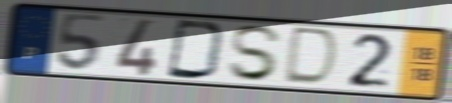2: (348, 31, 394, 91)
4: (114, 16, 161, 78)
5: (53, 11, 111, 75)
D: (164, 17, 229, 82), (280, 25, 342, 89)
S: (225, 24, 286, 84)
